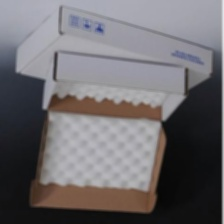book: (26, 49, 195, 220), (10, 3, 217, 101)
foam_box: (33, 108, 165, 196), (48, 77, 174, 111)
